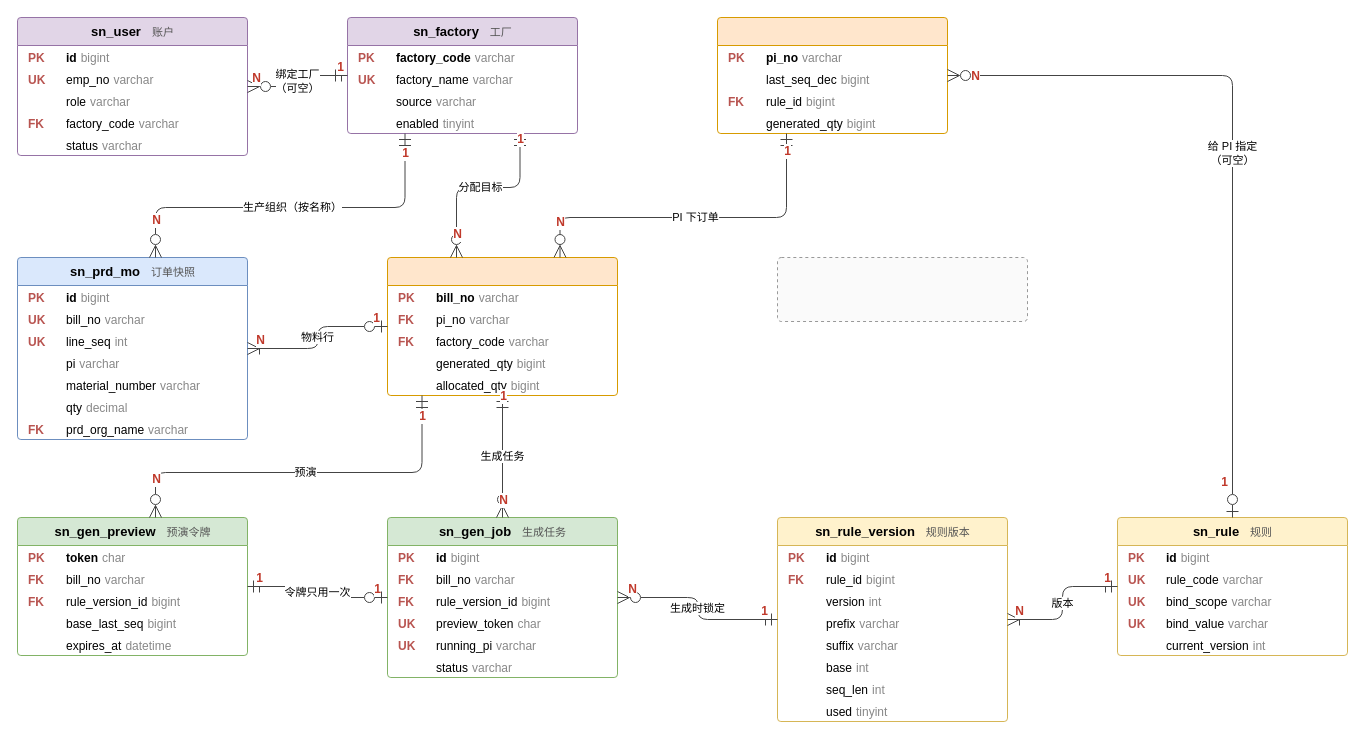
This 1365x739 diagram has some shape labels left out. The box of each missing label's shape, as (x1, y1, x2, y2) in pixels:
sn_bill_gen 订单额度: (386, 256, 618, 396)
sn_pi_counter PI 计数器: (716, 16, 948, 134)
分配记录 ：不另建表， 即同一事务写入的 SN_ALLOCATE 痕迹 （订单、工厂、起止号、数量、操作人、时间）: (776, 256, 1028, 322)
